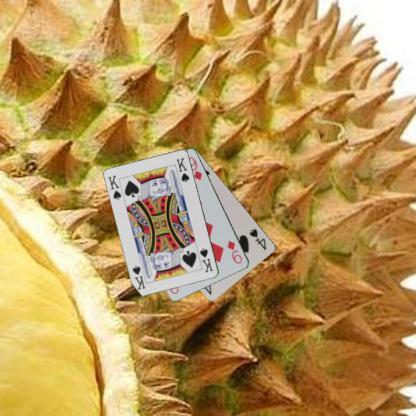4s: (247, 226, 268, 251)
9d: (225, 238, 244, 265)
Ks: (106, 172, 122, 202), (198, 245, 214, 274)
